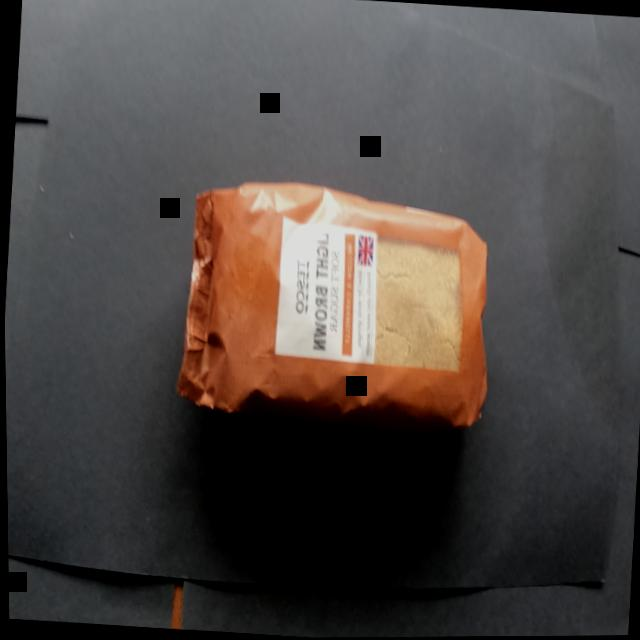Brownsugar: (149, 149, 523, 478)
